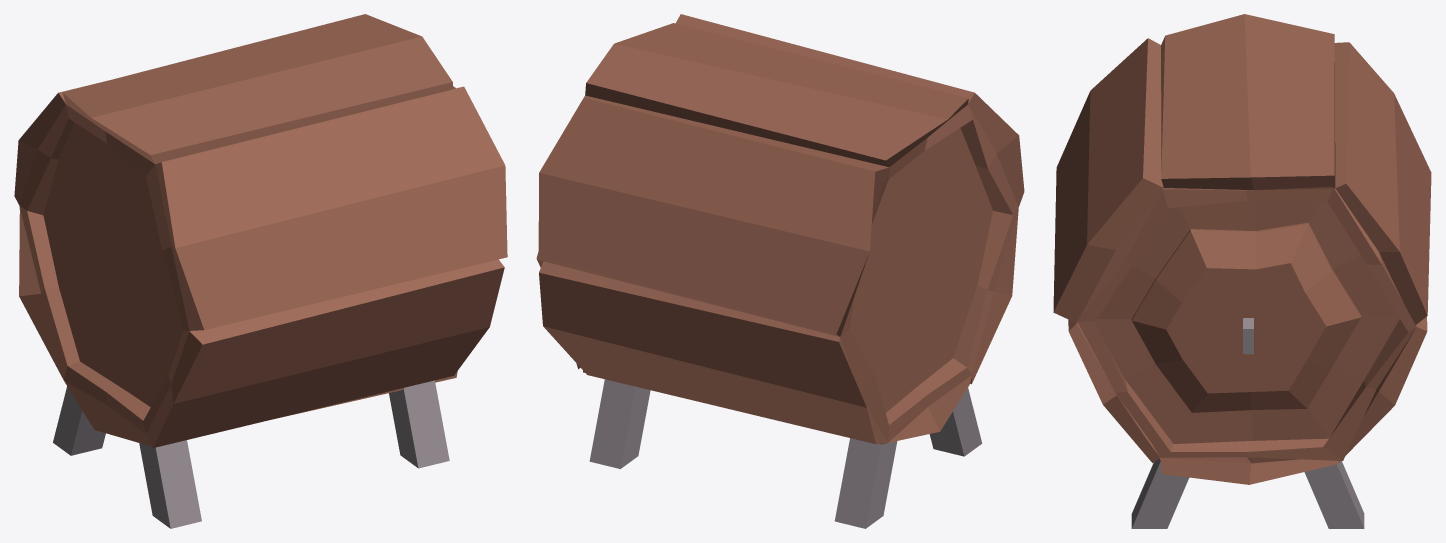
Rendered from GrosFût.fbx.
3 renders of one model, left to right at view 1: azimuth 30°, elevation 25°; view 2: azimuth 150°, elevation 25°; view 3: azimuth 270°, elevation 25°, orthographic.
Parts seen in each view (by area): view 1: Cube.081; view 2: Cube.081; view 3: Cube.081.
Part boxes in pixels (<box>): Cube.081: <box>14,14,507,528</box>; Cube.081: <box>536,14,1024,528</box>; Cube.081: <box>1053,14,1431,528</box>.
Size of the model in its own units: 2.44 by 2.5 by 2.31.
